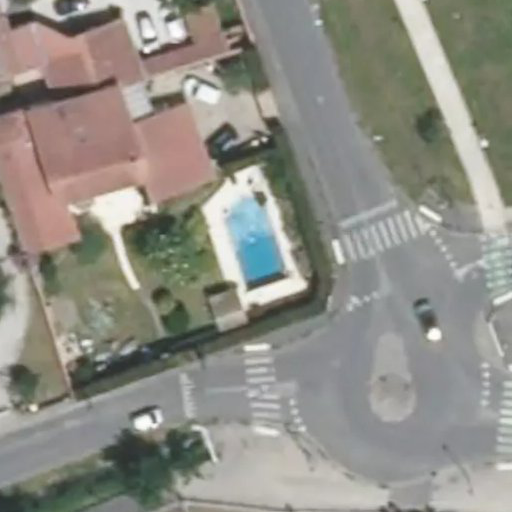pool: (220, 211, 291, 272)
